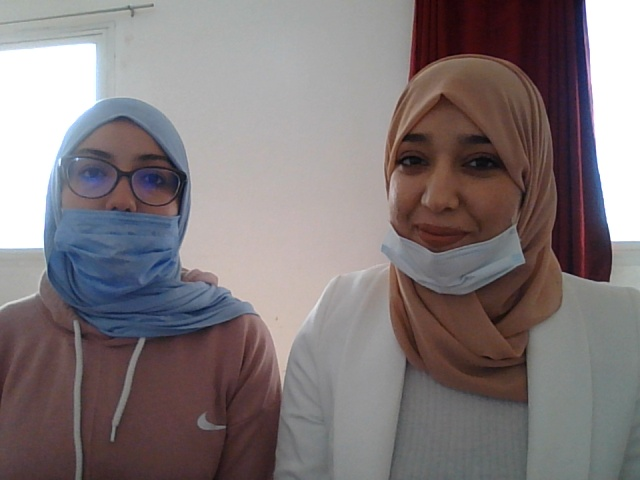mask_weared_incorrect: (368, 55, 570, 309), (53, 102, 178, 282)
